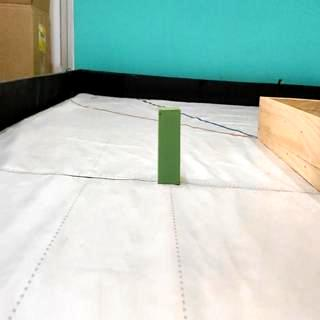greenbox: (158, 106, 182, 184)
